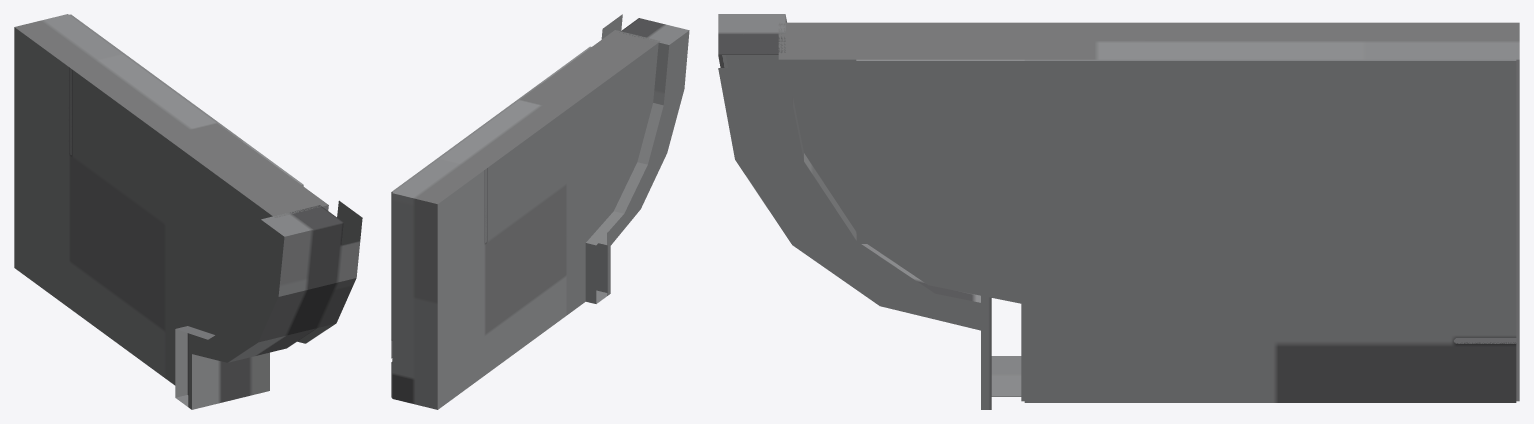
3 renders of one model, left to right at view 1: azimuth 30°, elevation 25°; view 2: azimuth 150°, elevation 25°; view 3: azimuth 270°, elevation 25°, orthographic. The views are drawn at different scales.
Bounding box in the file's own units: 0.38 × 1.12 × 2.38.
